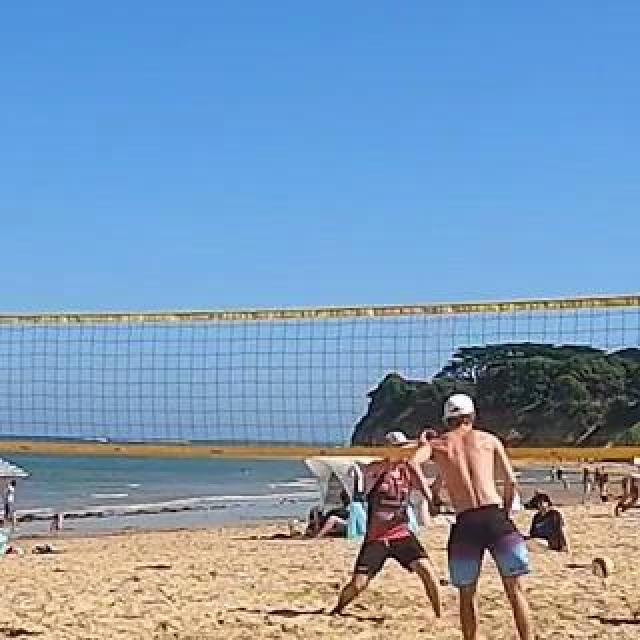volleyball: (592, 556, 614, 578)
